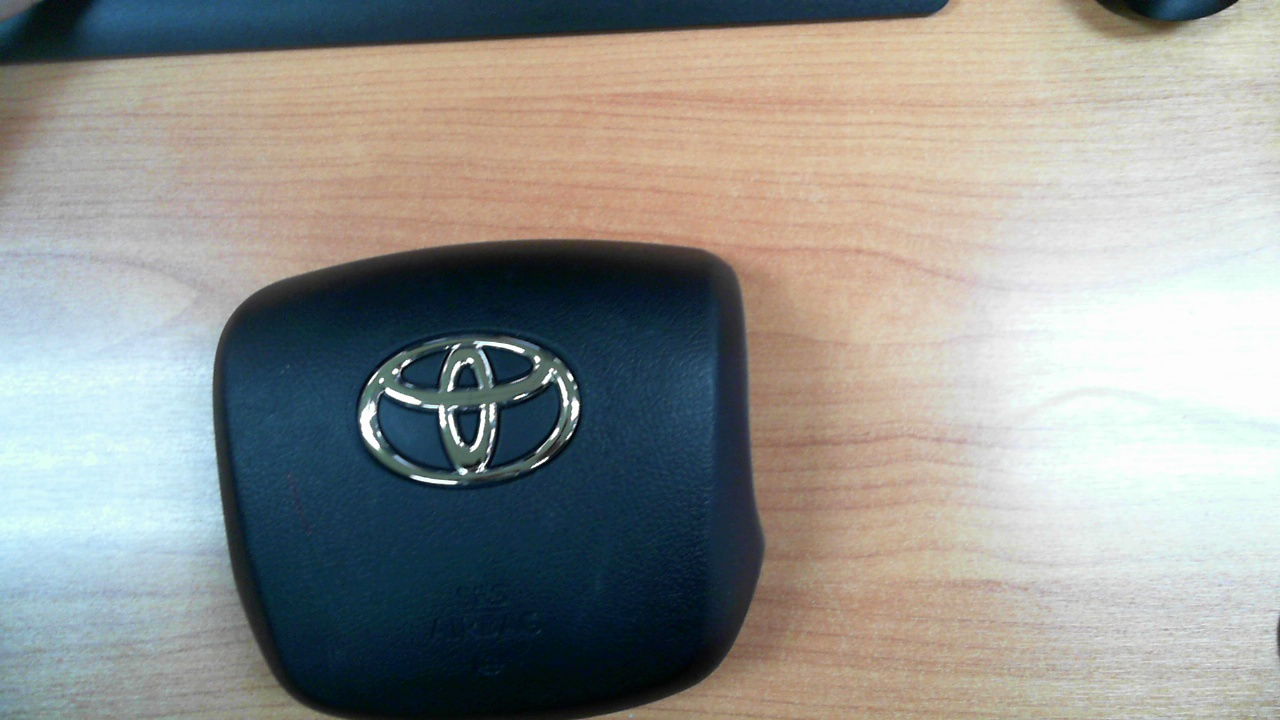Airbag: (214, 235, 765, 715)
Toyota: (357, 333, 581, 486)
